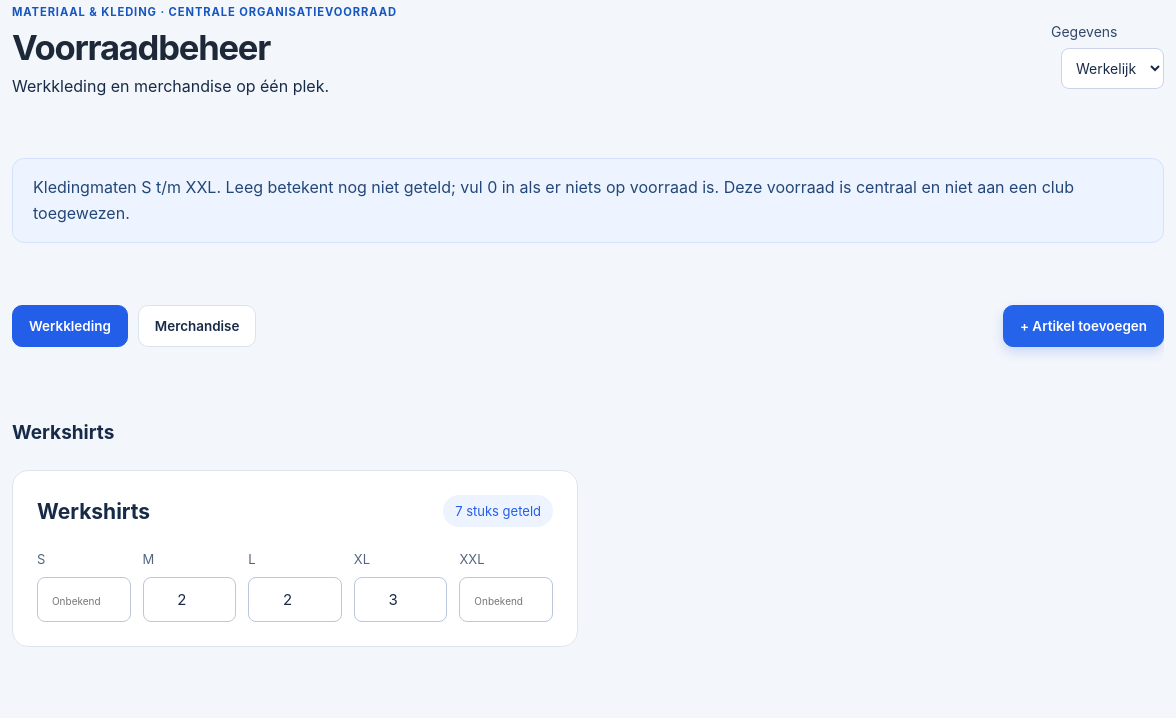
Test: voorraadbeheer › slaat onbekend en nul met de huidige versie afzonderlijk op
Expected: the number field named "Werkshirts M" holds "2", [143,577,236,622]
Expected: the number field named "Werkshirts XL" holds "3", [354,577,447,622]
Type "0" into the number field named "Werkshirts S" at (84, 600), box [37,577,131,622]
(page scrolled)
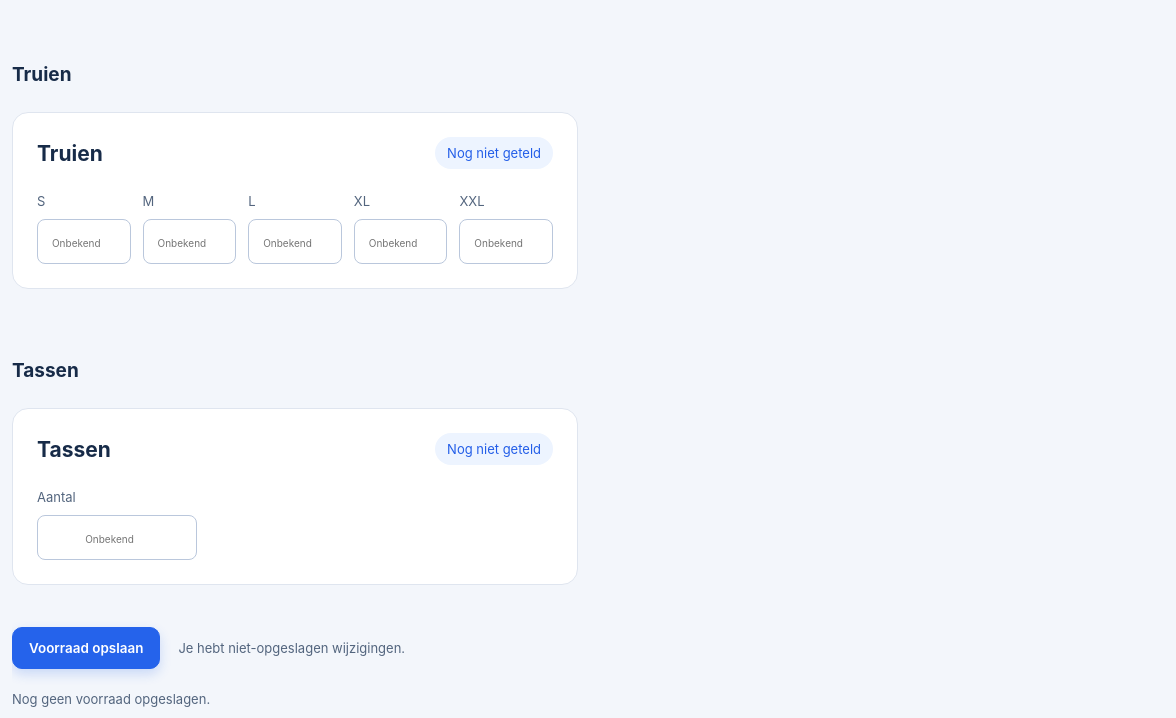
Click the button "Voorraad opslaan" at (86, 648), box [12,627,160,669]
(page scrolled)
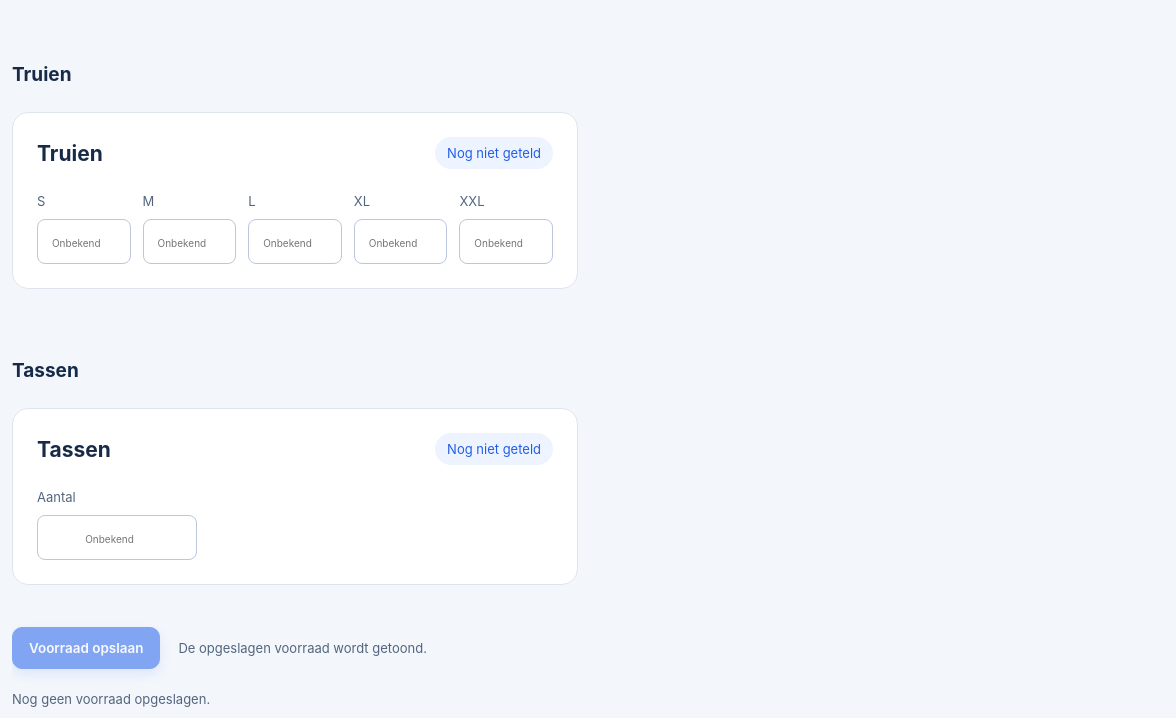
Now the button "Voorraad opslaan" is disabled, box [12,627,160,669]
